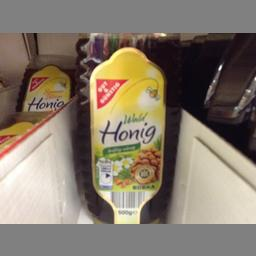honey: (76, 35, 180, 224)
